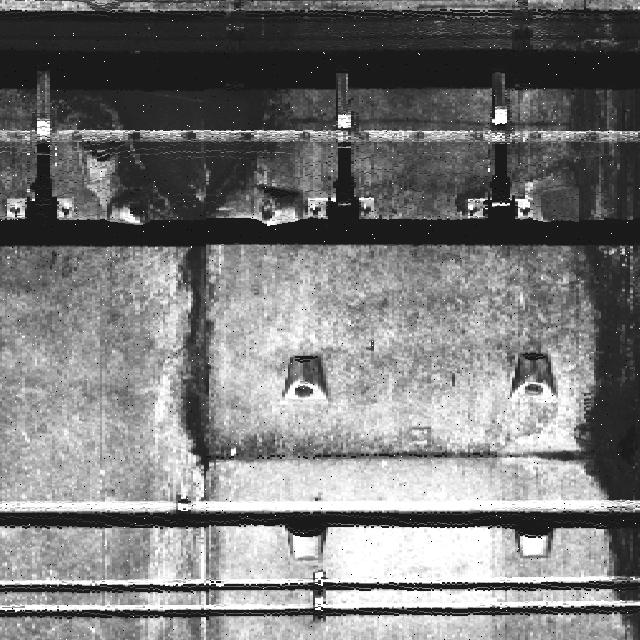leakage: (69, 85, 276, 468), (567, 9, 640, 634)
